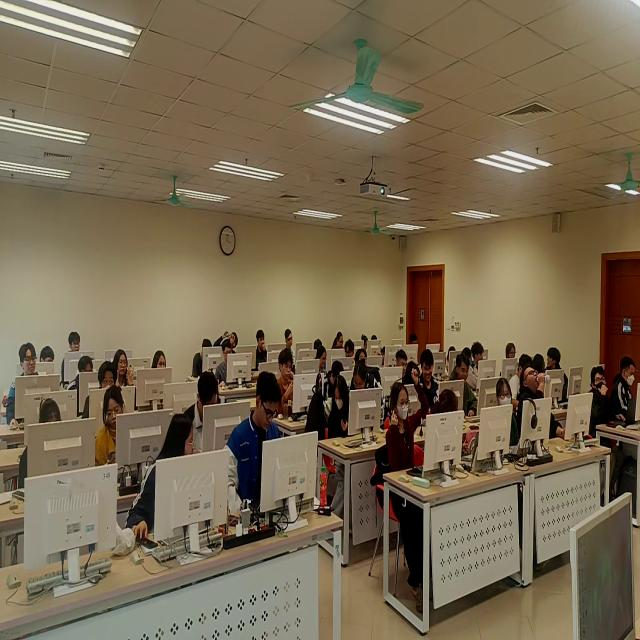raise_hand: (386, 367, 430, 476), (517, 366, 566, 439), (214, 328, 239, 348)
raise_head: (82, 362, 118, 421), (586, 366, 613, 436), (496, 379, 521, 451), (61, 333, 82, 390), (255, 330, 269, 371), (354, 348, 369, 368), (152, 351, 167, 369)
stand: (351, 361, 385, 433)
using_computer: (223, 372, 284, 526), (19, 398, 62, 492), (183, 372, 219, 455), (7, 344, 40, 431), (95, 385, 126, 467), (448, 353, 479, 418), (612, 356, 640, 421), (67, 356, 95, 419), (329, 375, 351, 439), (510, 354, 533, 403), (216, 340, 236, 389), (323, 361, 344, 399), (194, 339, 214, 376), (461, 347, 478, 389), (285, 329, 297, 363), (406, 359, 421, 386), (395, 351, 409, 378), (315, 347, 328, 375), (409, 333, 421, 363), (534, 354, 548, 377), (446, 346, 457, 370), (333, 332, 345, 350), (362, 334, 369, 354), (314, 337, 323, 351), (372, 335, 378, 341)
using_phone: (276, 349, 295, 420), (114, 350, 136, 387)
